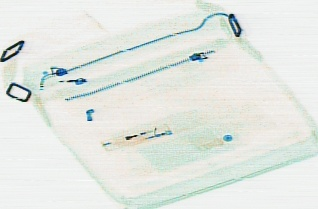lighter: (97, 122, 172, 152)
